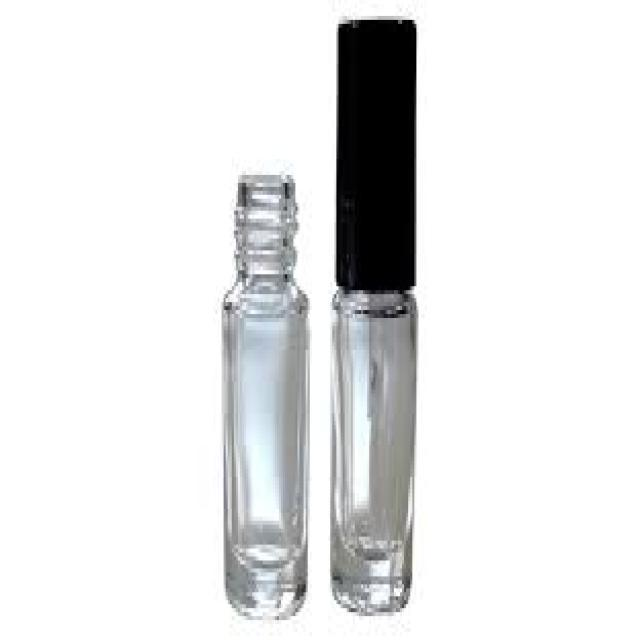Glass: (222, 176, 308, 620), (326, 288, 419, 613)
